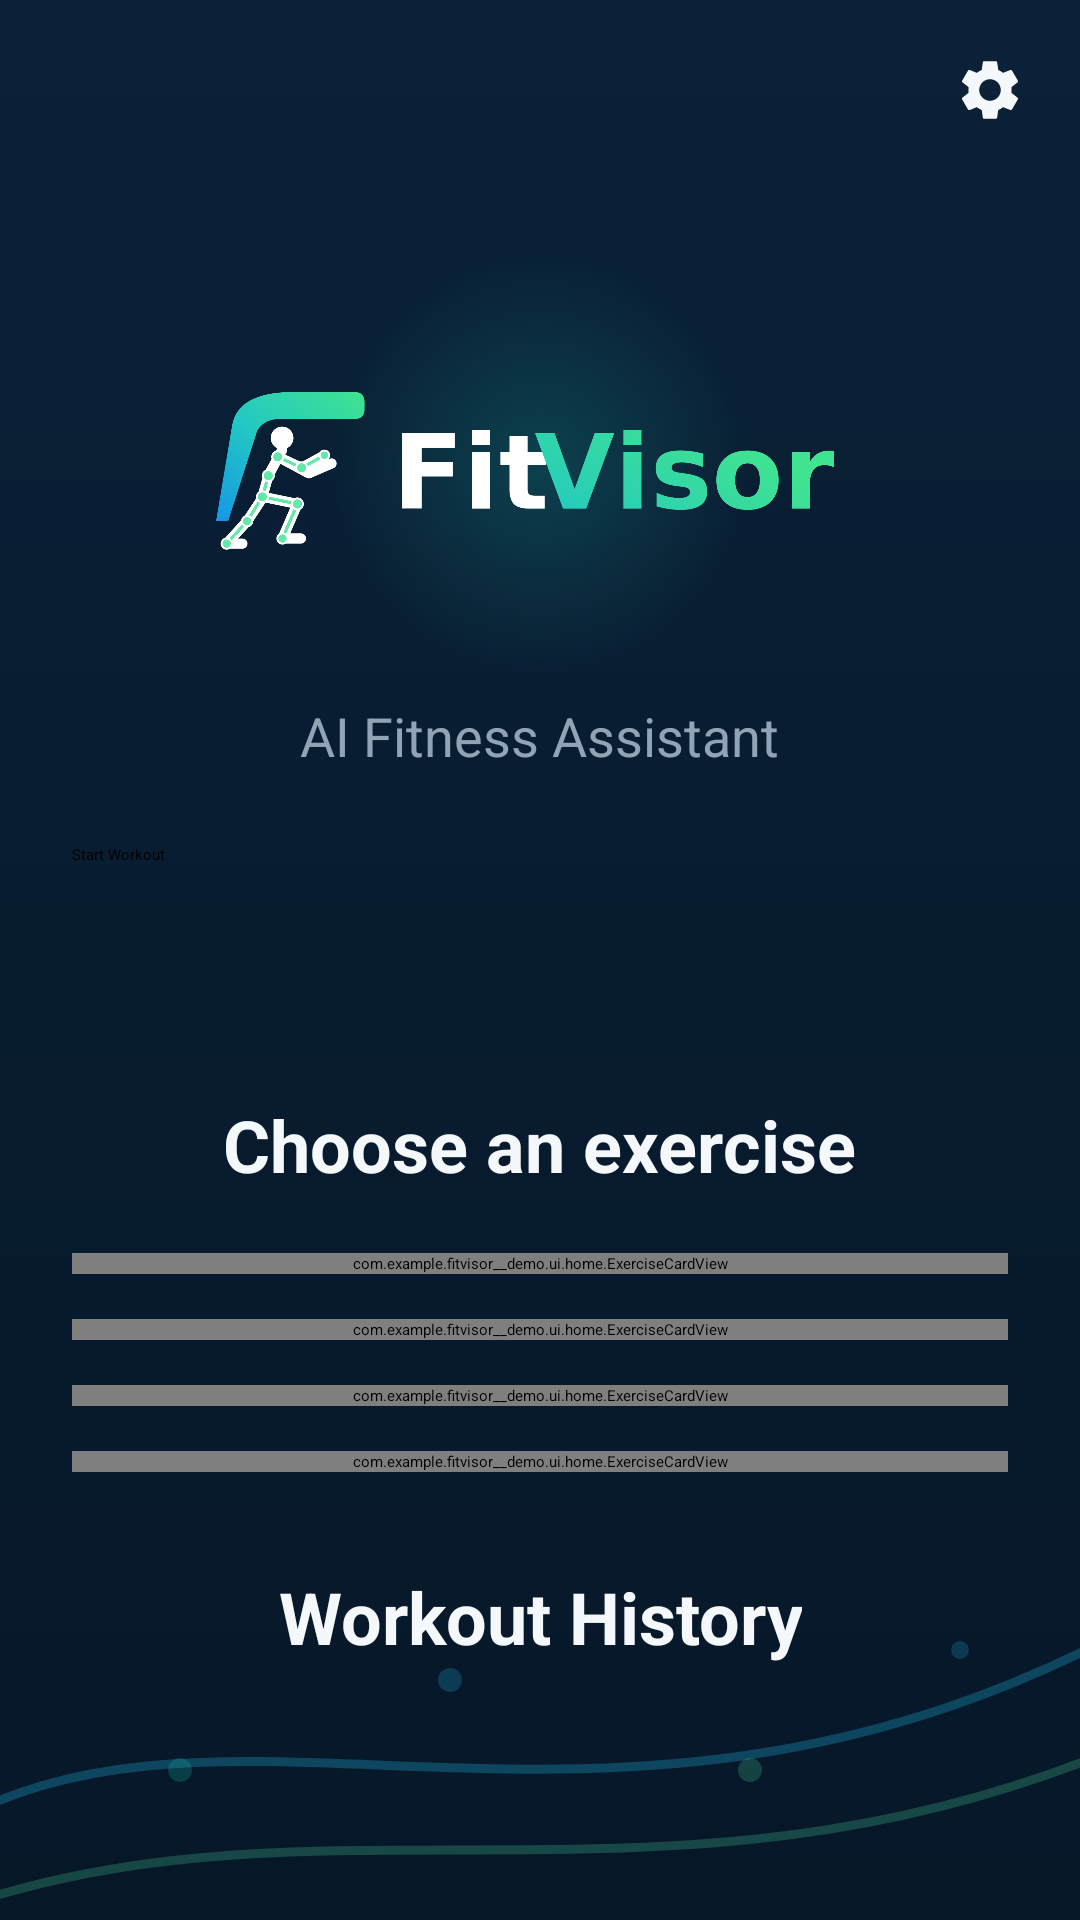

Point at icon controls on the screen. Image size 1080×1920, points as (x,y).
Open settings: (990,90)
